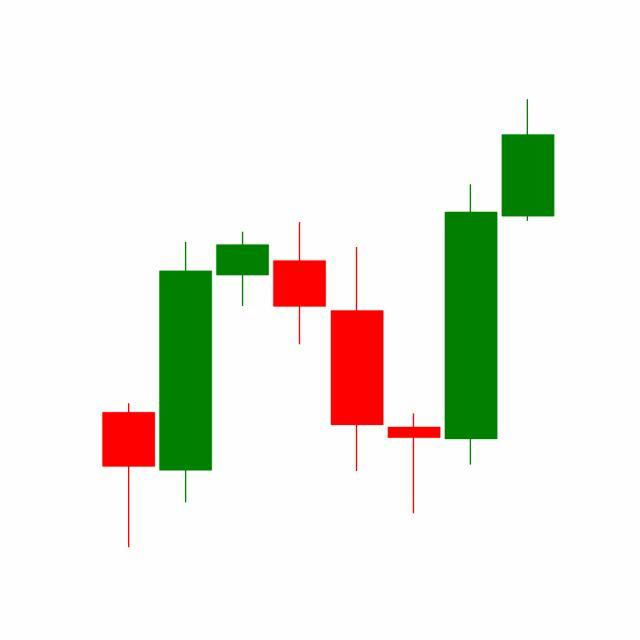Three Line Strike: (271, 182, 501, 518)
